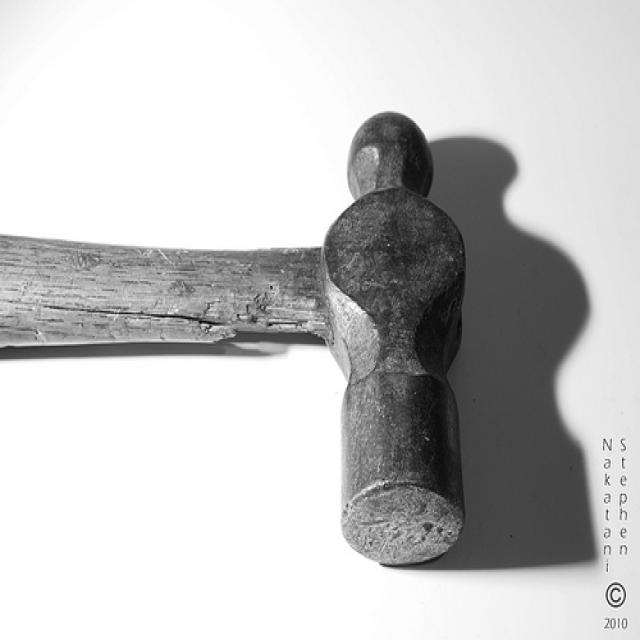hammer: (0, 71, 488, 584)
